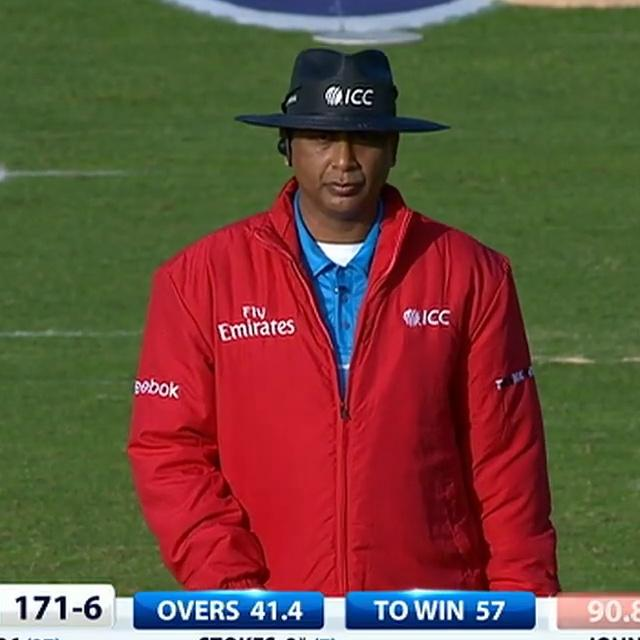umpire: (97, 17, 618, 593)
